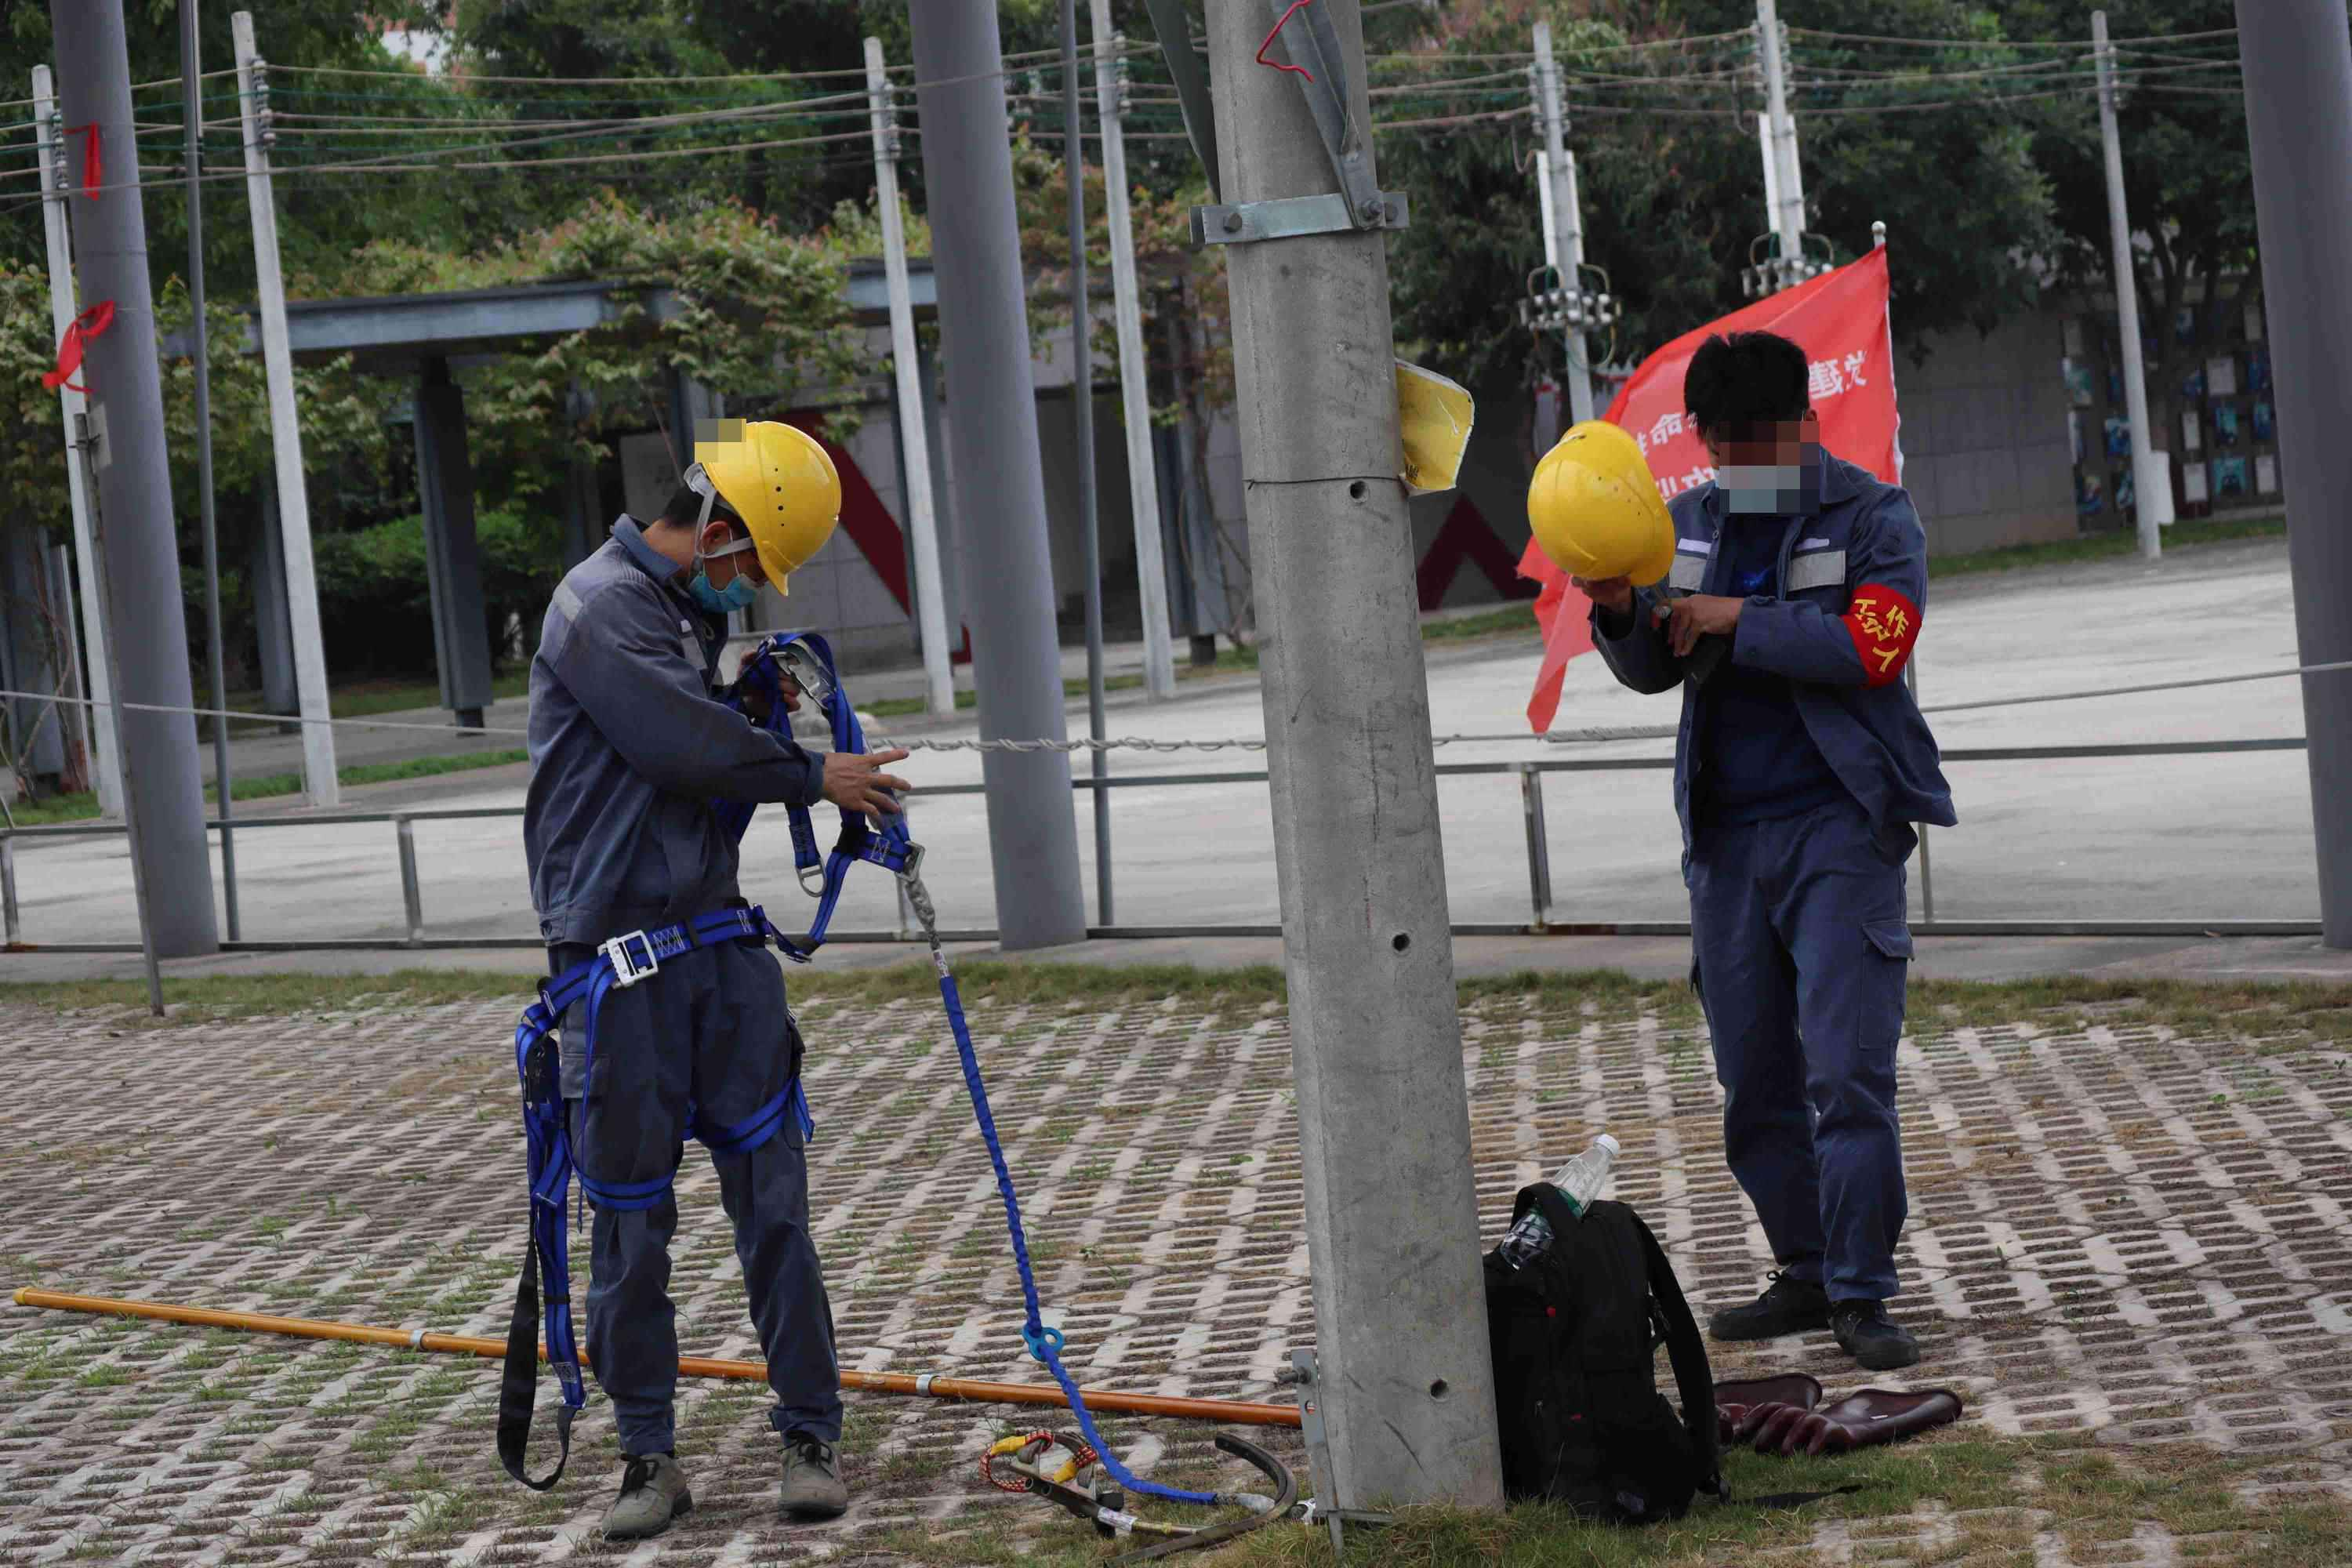downsuit: (551, 963, 837, 1444), (1687, 824, 1925, 1290)
upsuit: (1631, 453, 1946, 833), (527, 549, 803, 950)
wrongsuit: (1675, 500, 1888, 826)
